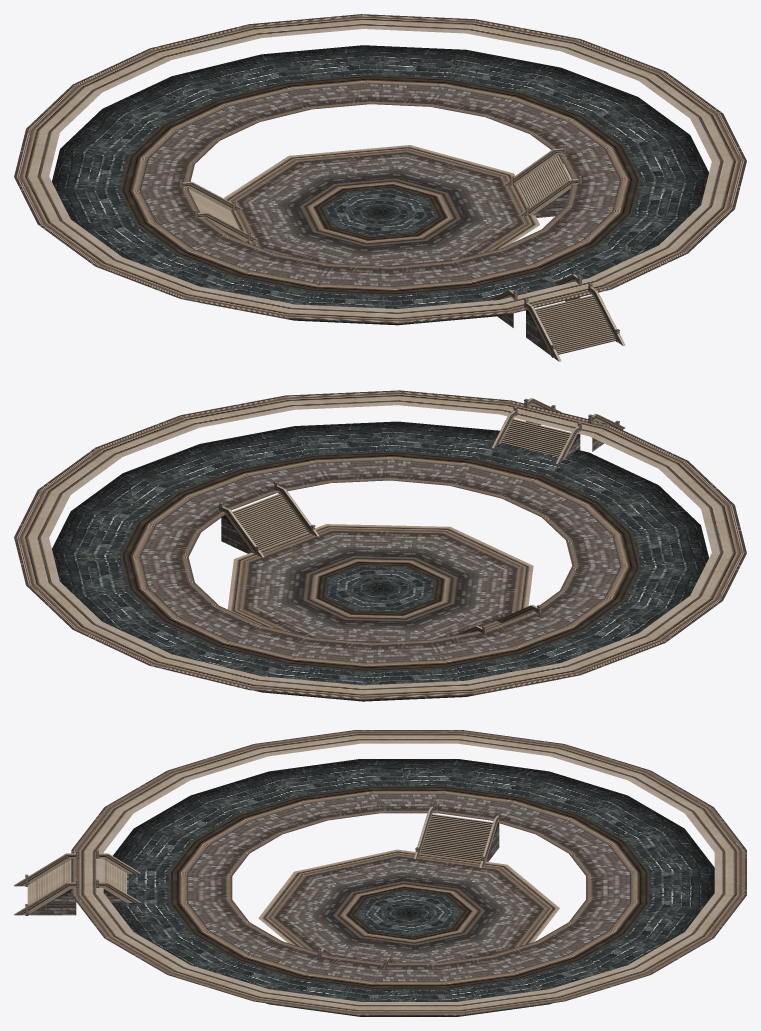
File: LionTemple02.FBX
3 views of the same model, one above another, from view 1: azimuth 30°, elevation 25°; view 2: azimuth 150°, elevation 25°; view 3: azimuth 270°, elevation 25° (orthographic). The views are drawn at different scales.
Visible parts, largest first — view 1: LionTemple02; view 2: LionTemple02; view 3: LionTemple02.
Boxes of the visible parts, left/top/right/bottom form: LionTemple02: left=14, top=14, right=746, bottom=361; LionTemple02: left=14, top=390, right=746, bottom=701; LionTemple02: left=14, top=730, right=746, bottom=1016.
Bounding box in the file's own units: 3885 × 323 × 4215.
Materials: 2 (2 with a texture image).
